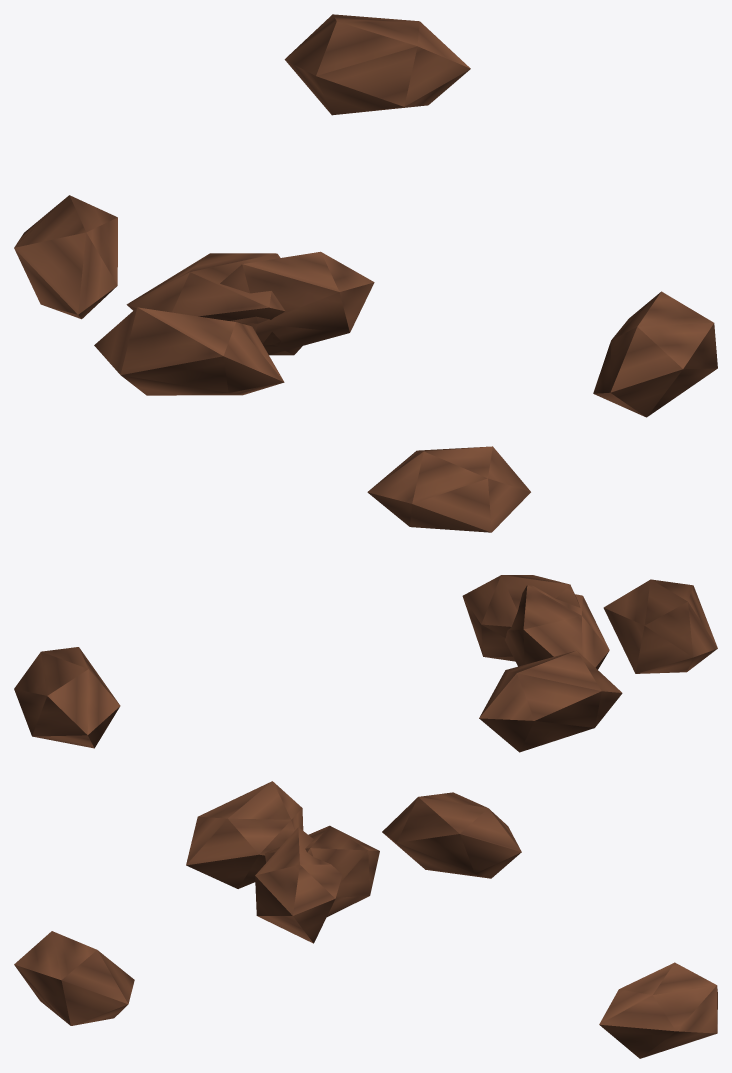
File: SM_Pinecones01.fbx
3 views of the same model, one above another, from view 1: azimuth 30°, elevation 25°; view 2: azimuth 150°, elevation 25°; view 3: azimuth 270°, elevation 25° (orthographic). The views are drawn at different scales.
Visible parts, largest first — view 1: SM_Pinecones01; view 2: SM_Pinecones01; view 3: SM_Pinecones01.
Part boxes in pixels (x1,y1,x2,y2): SM_Pinecones01: (14, 14, 717, 417); SM_Pinecones01: (14, 446, 717, 752); SM_Pinecones01: (14, 781, 717, 1058).
Bounding box in the file's own units: 1.67 × 0.2951 × 2.24.
Materials: 1 (1 with a texture image).
